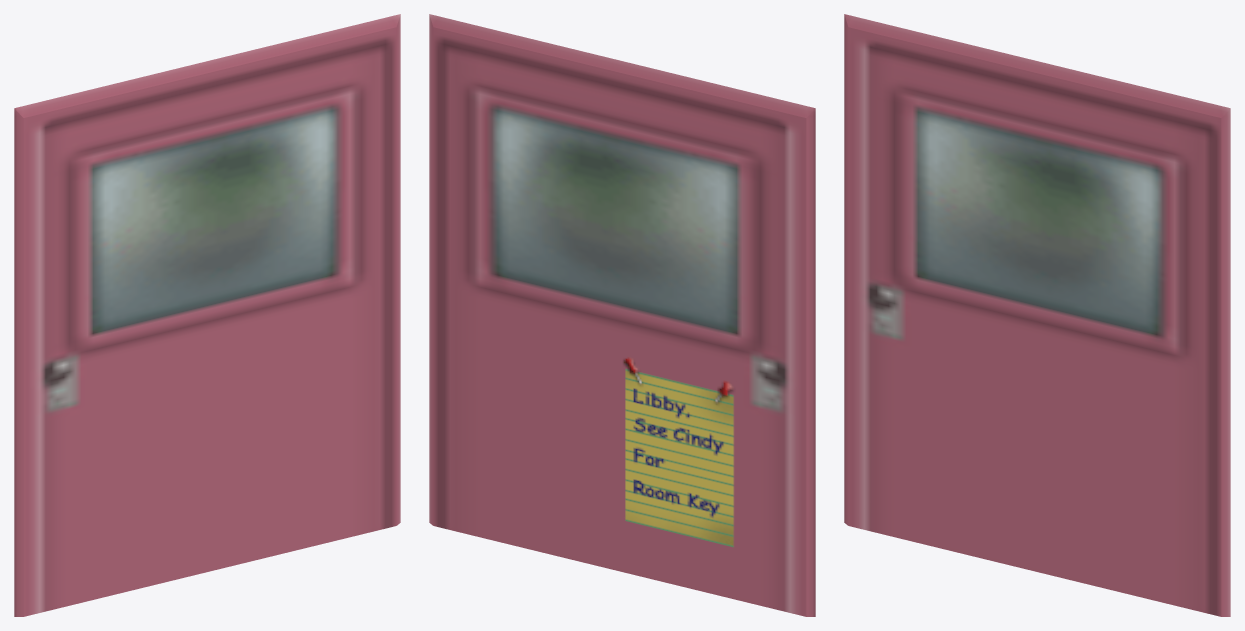
Rendered from doorfowl.glb.
3 renders of one model, left to right at view 1: azimuth 30°, elevation 25°; view 2: azimuth 150°, elevation 25°; view 3: azimuth 330°, elevation 25°, orthographic.
Parts seen in each view (by area): view 1: doorfowl; view 2: doorfowl; view 3: doorfowl.
Boxes of the visible parts, bbox=[...] form: doorfowl: bbox=[14, 14, 400, 616]; doorfowl: bbox=[429, 14, 815, 616]; doorfowl: bbox=[844, 14, 1230, 616].
Size of the model in its own units: 275 by 346 by 8.92.
1 material, 1 textured.
